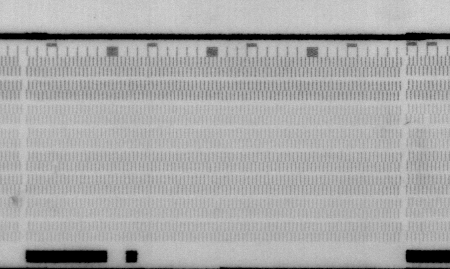Broken hole: (421, 112, 433, 124)
Oblique printing: (49, 163, 61, 176)
